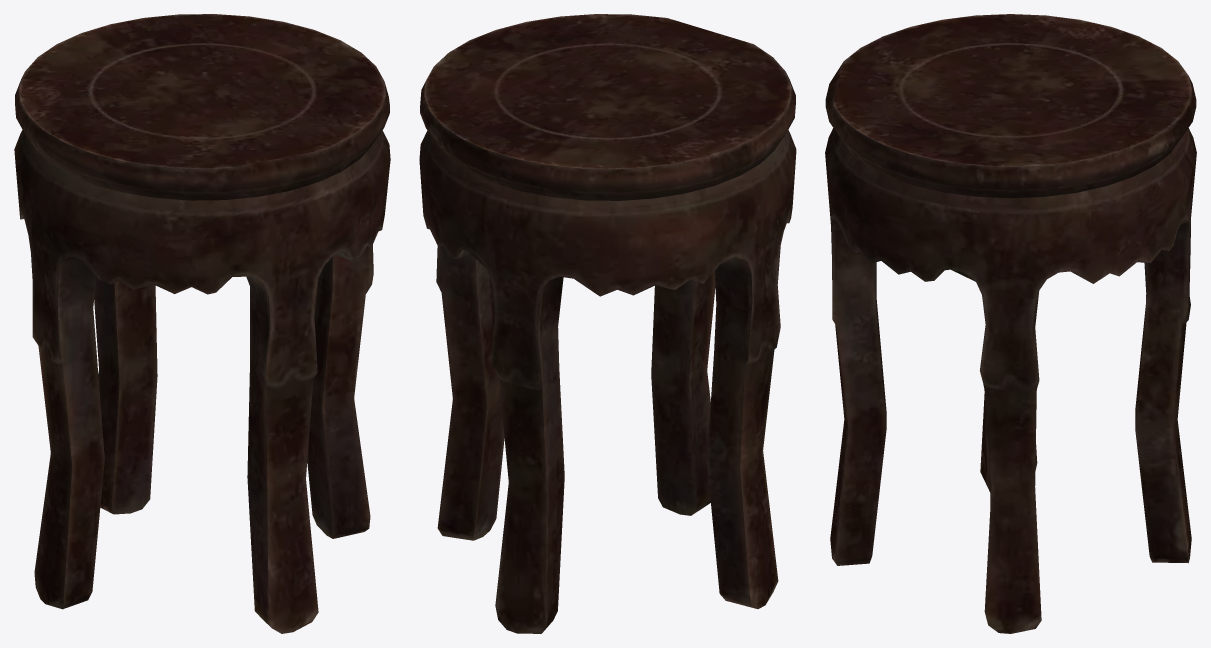
File: WoodenTable_02.ba58efef.glb
3 renders of one model, left to right at view 1: azimuth 30°, elevation 25°; view 2: azimuth 150°, elevation 25°; view 3: azimuth 270°, elevation 25°, orthographic.
Parts seen in each view (by area): view 1: WoodenTable_02; view 2: WoodenTable_02; view 3: WoodenTable_02.
Boxes of the visible parts, x1,y1,x2,y2 form: WoodenTable_02: [14, 14, 390, 633]; WoodenTable_02: [419, 14, 796, 633]; WoodenTable_02: [825, 14, 1196, 633].
Bounding box in the file's own units: 0.3007 × 0.4177 × 0.3007.
1 material, 1 textured.
